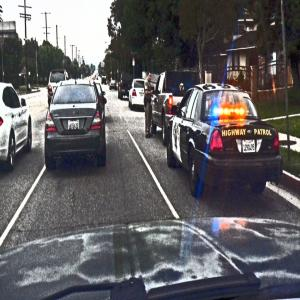Vehicle-registration-plate: (244, 140, 257, 155), (67, 120, 81, 132)
